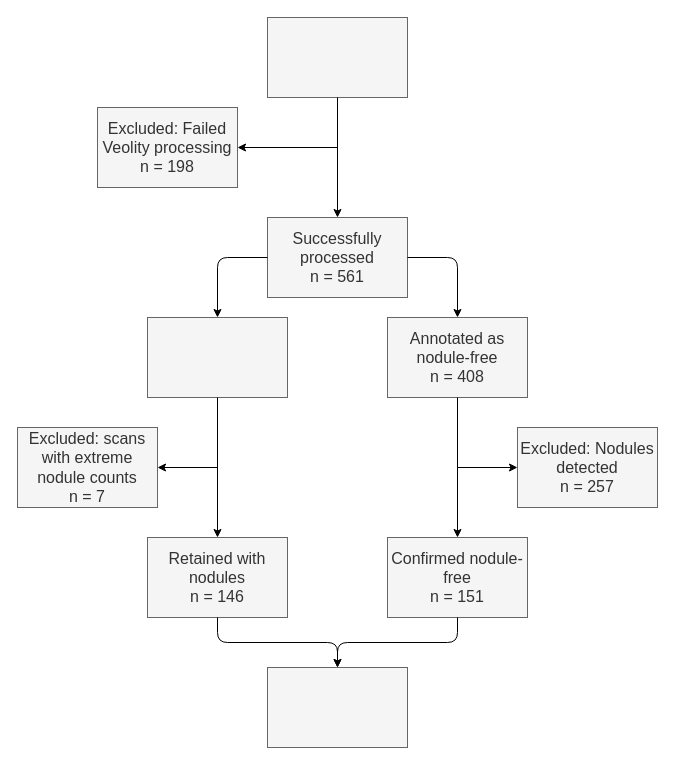
This 675x765 diagram has some shape labels left out. Here are the shapes that lost their labels. From the top down, the centre of each, then its label:
the point at 337,57: LSUT validation scans n = 759
the point at 217,357: Annotated as containing nodules n = 153
the point at 337,707: Final validation dataset n = 297
